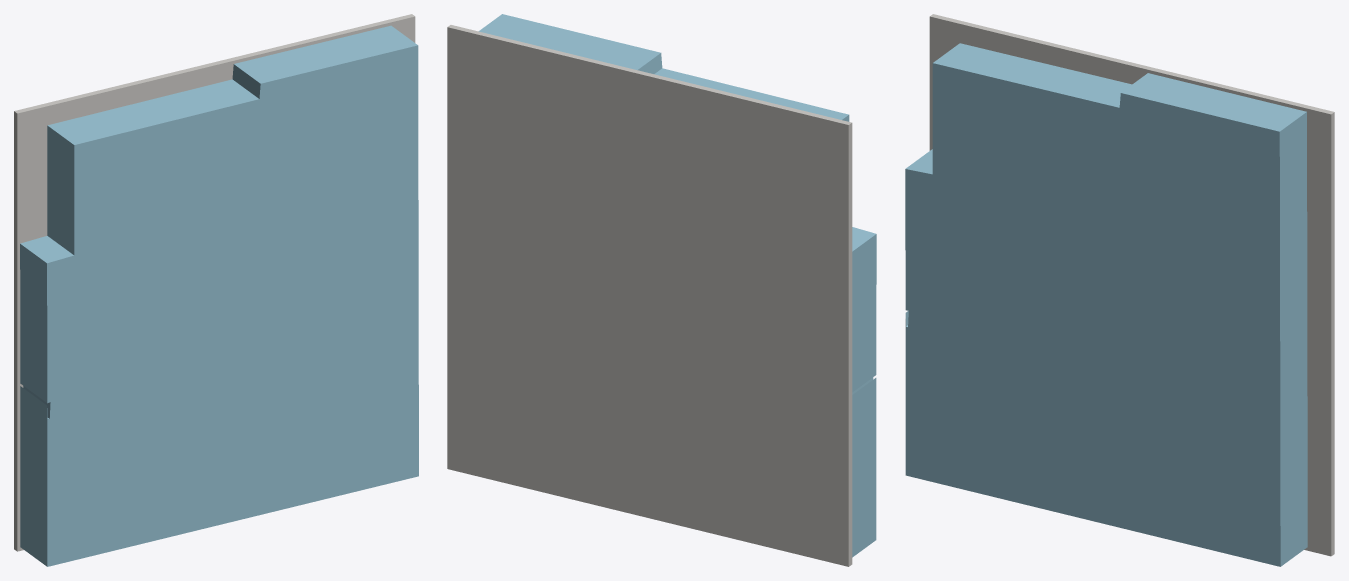
3 renders of one model, left to right at view 1: azimuth 30°, elevation 25°; view 2: azimuth 150°, elevation 25°; view 3: azimuth 330°, elevation 25°, orthographic.
Visible parts, largest first — view 1: world; view 2: world; view 3: world.
Boxes of the visible parts, x1=… form: world: x1=14, y1=14, x2=418, y2=566; world: x1=447, y1=14, x2=876, y2=566; world: x1=905, y1=14, x2=1334, y2=566.
Bounding box in the file's own units: 10.23 × 10.76 × 1.35.
